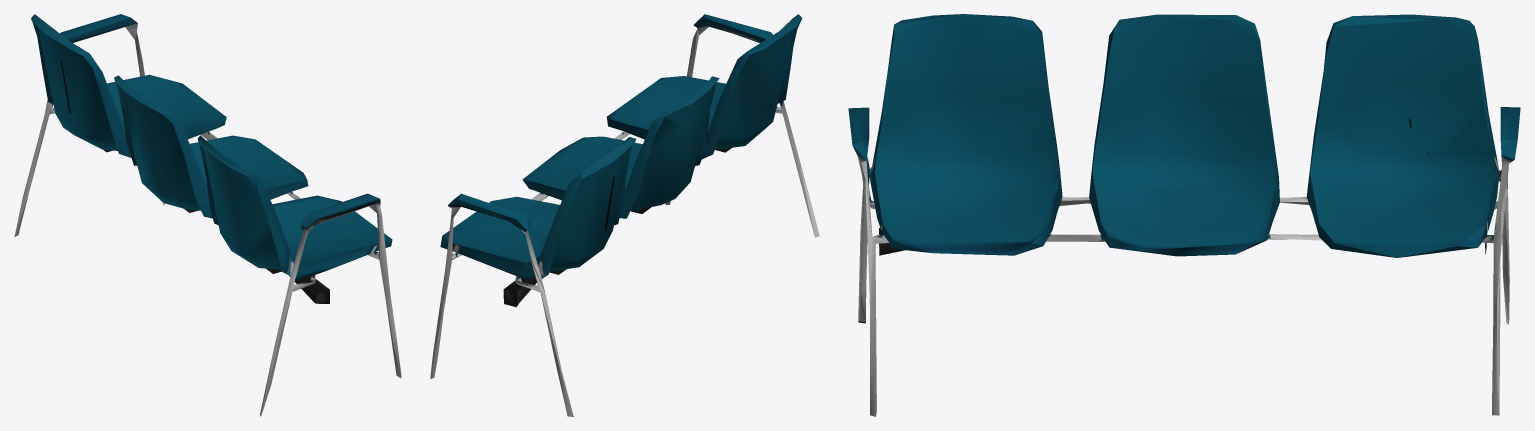
3 views of the same model, side by side, from view 1: azimuth 30°, elevation 25°; view 2: azimuth 150°, elevation 25°; view 3: azimuth 270°, elevation 25° (orthographic). The views are drawn at different scales.
Parts seen in each view (by area): view 1: repaired; view 2: repaired; view 3: repaired.
Boxes of the visible parts, x1,y1,x2,y2 form: repaired: (14,14,401,416); repaired: (430,14,819,416); repaired: (848,14,1520,416).
Size of the model in its own units: 0.3557 by 0.506 by 0.9982.
